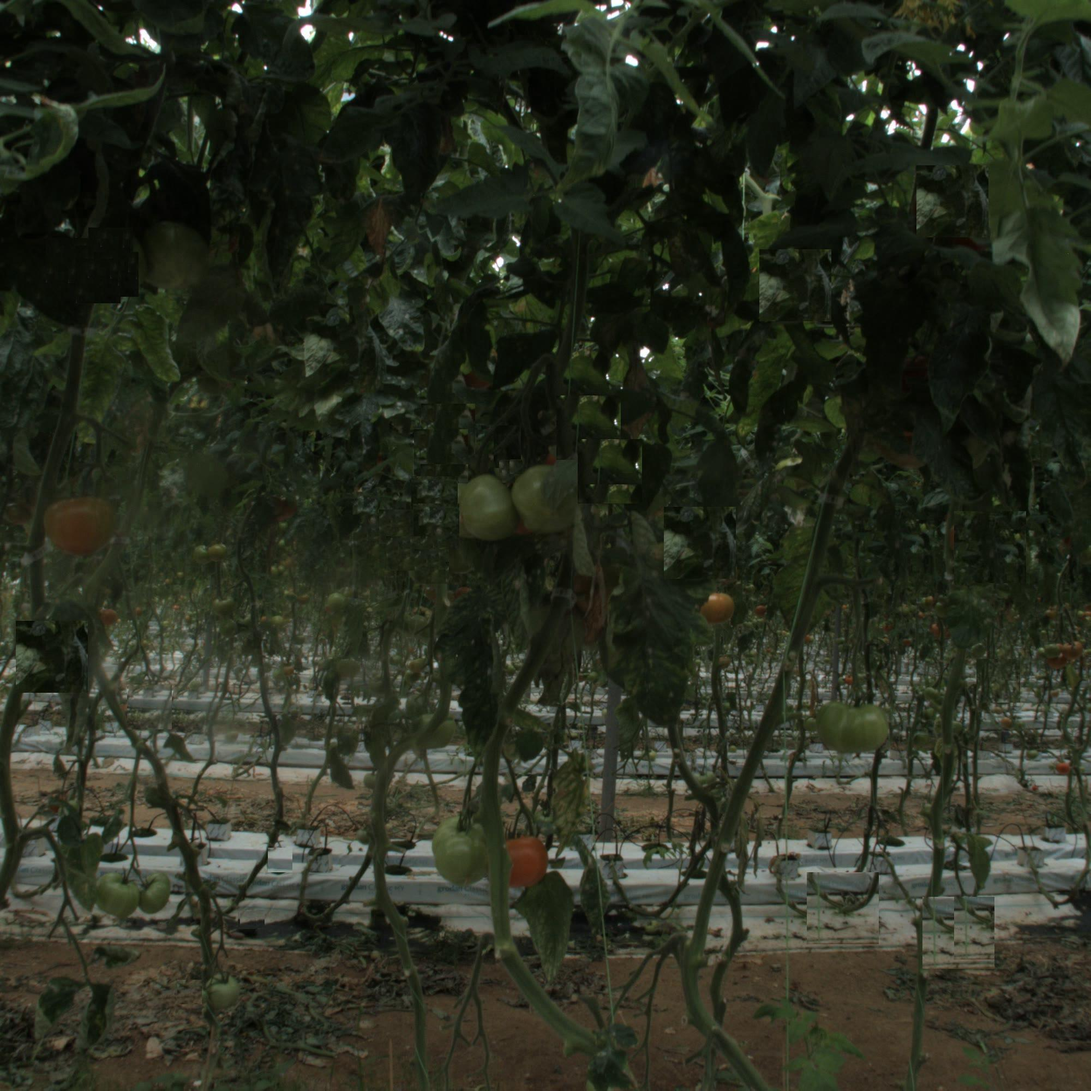fully-ripe: (494, 834, 548, 889)
semi-ripe: (46, 492, 111, 556), (701, 592, 734, 625)
unripe: (429, 812, 503, 886), (457, 469, 531, 543), (136, 220, 208, 292), (513, 466, 578, 531), (817, 692, 881, 757), (97, 870, 141, 915), (134, 872, 175, 912), (203, 972, 243, 1011)
